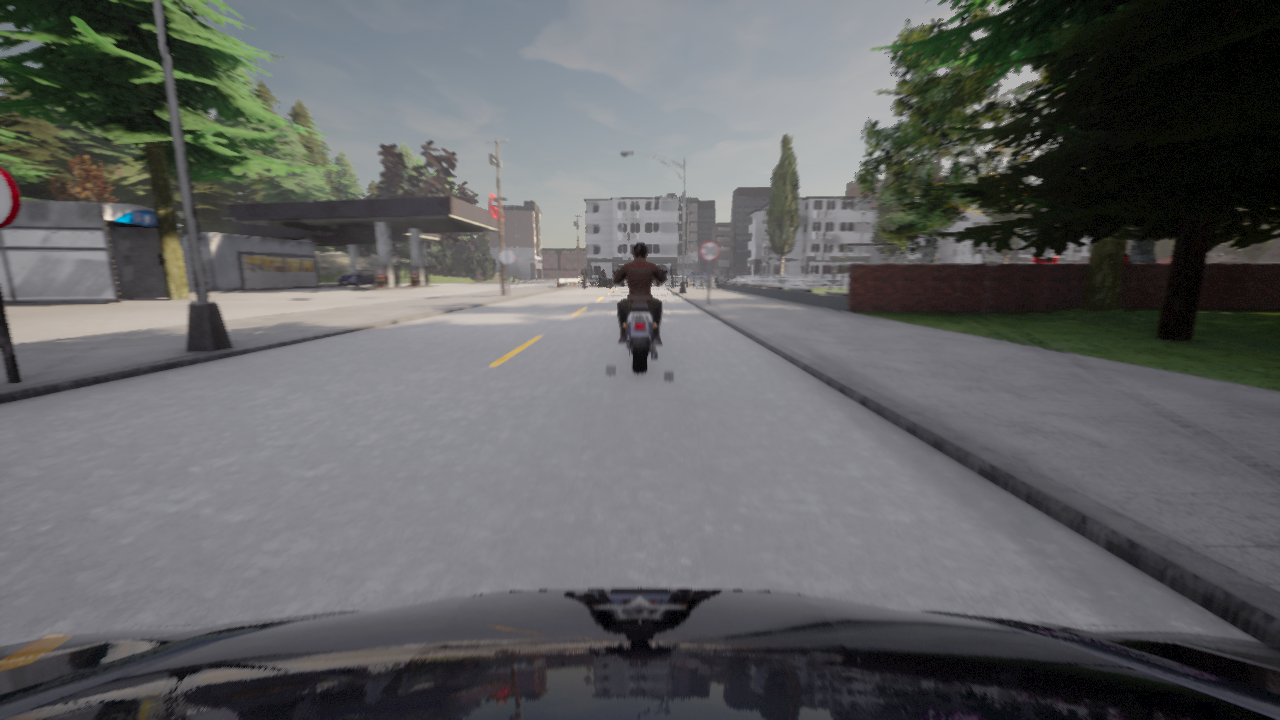cyclist: (0, 588, 1279, 719), (613, 269, 666, 373), (337, 269, 375, 287), (592, 272, 612, 287), (688, 272, 706, 277), (710, 273, 723, 277), (582, 280, 583, 288)
